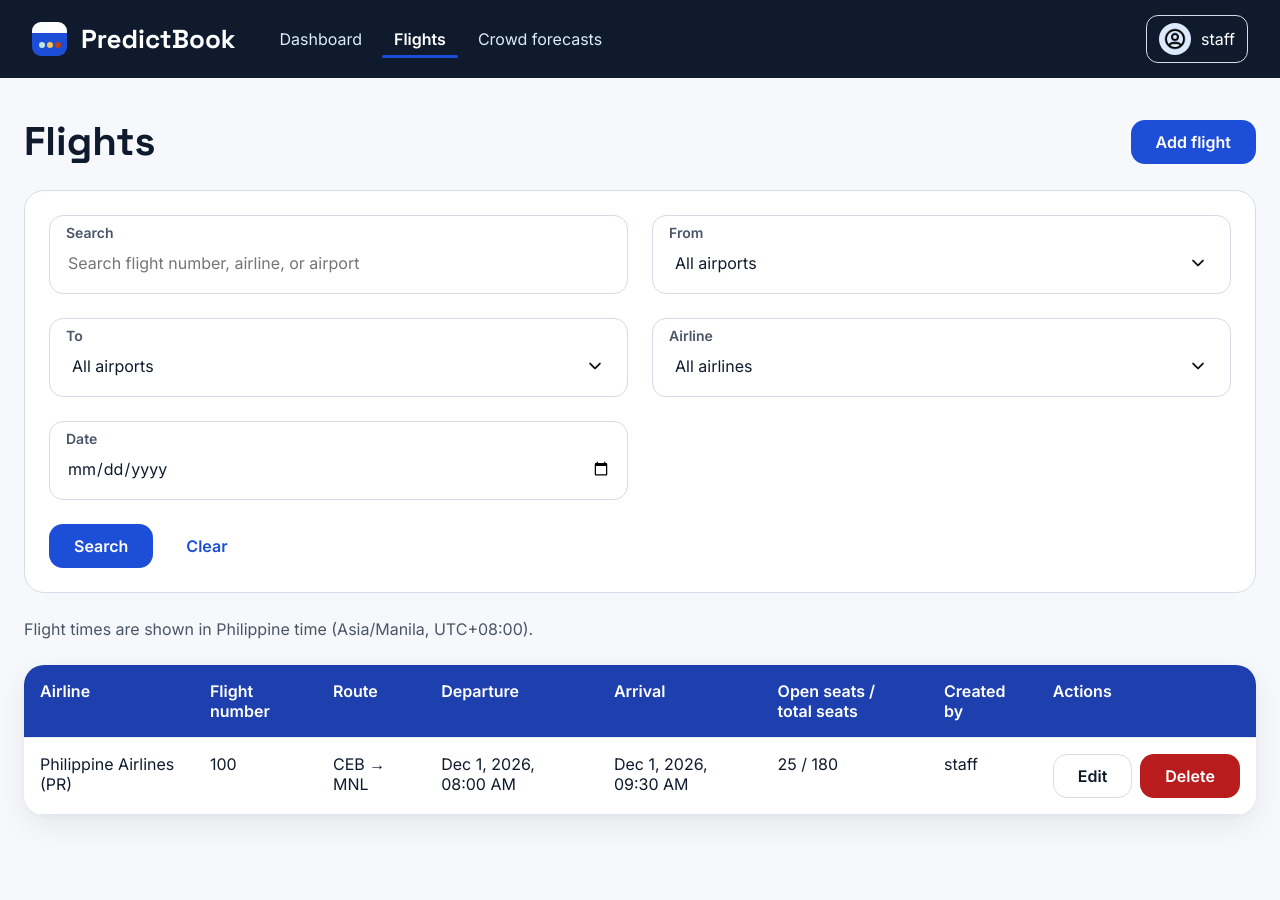
Test case: keeps the row and displays deletion errors
The width and height of the screenshot is (1280, 900).
Click the button "Delete" at (1190, 776), box [1140, 754, 1240, 798]
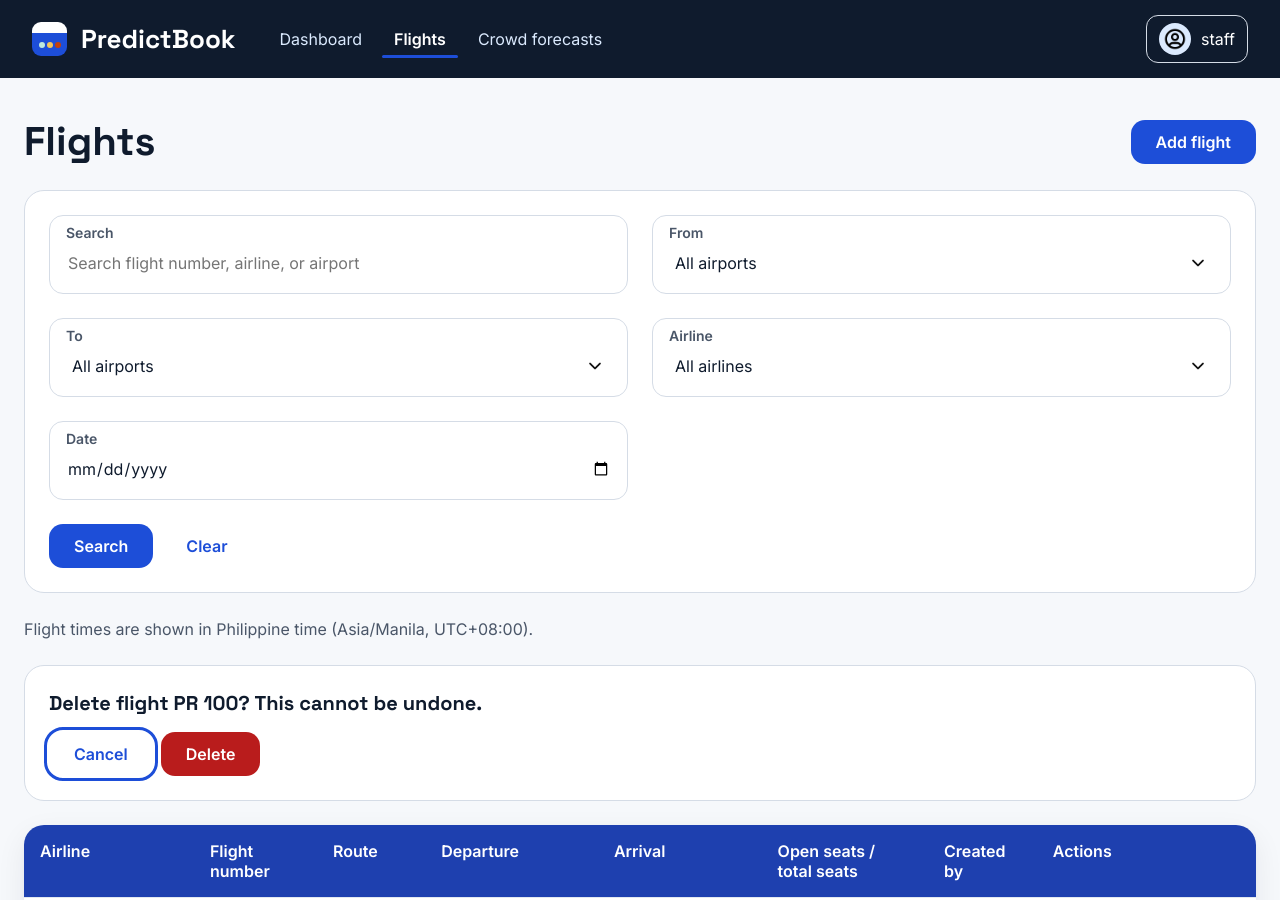
Click the button with class "record-danger" at (210, 754), box [161, 732, 260, 776]
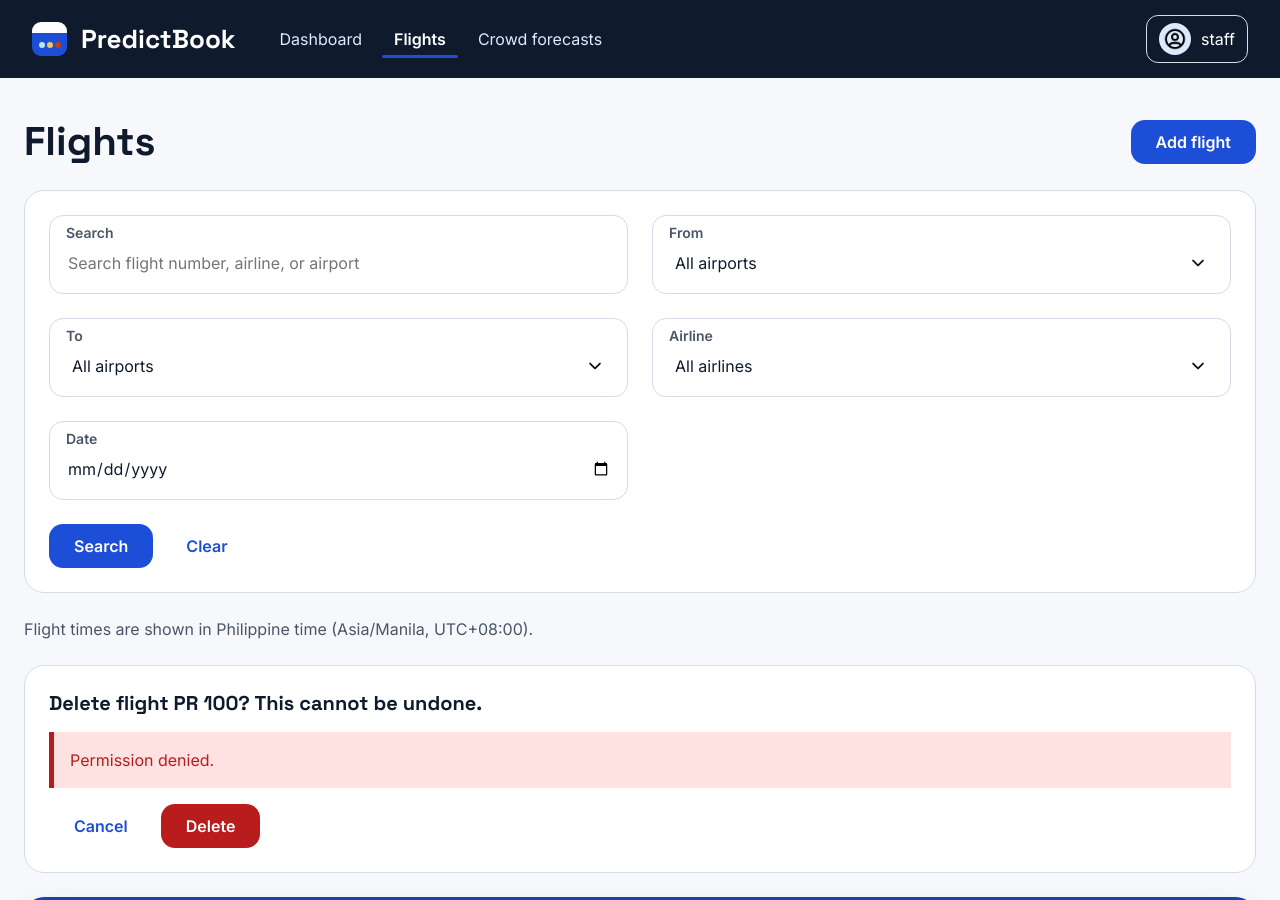
Result: the button with class "record-danger" is enabled at [161, 804, 260, 848]
Result: the message "Permission denied." is shown at [49, 732, 1231, 788]
